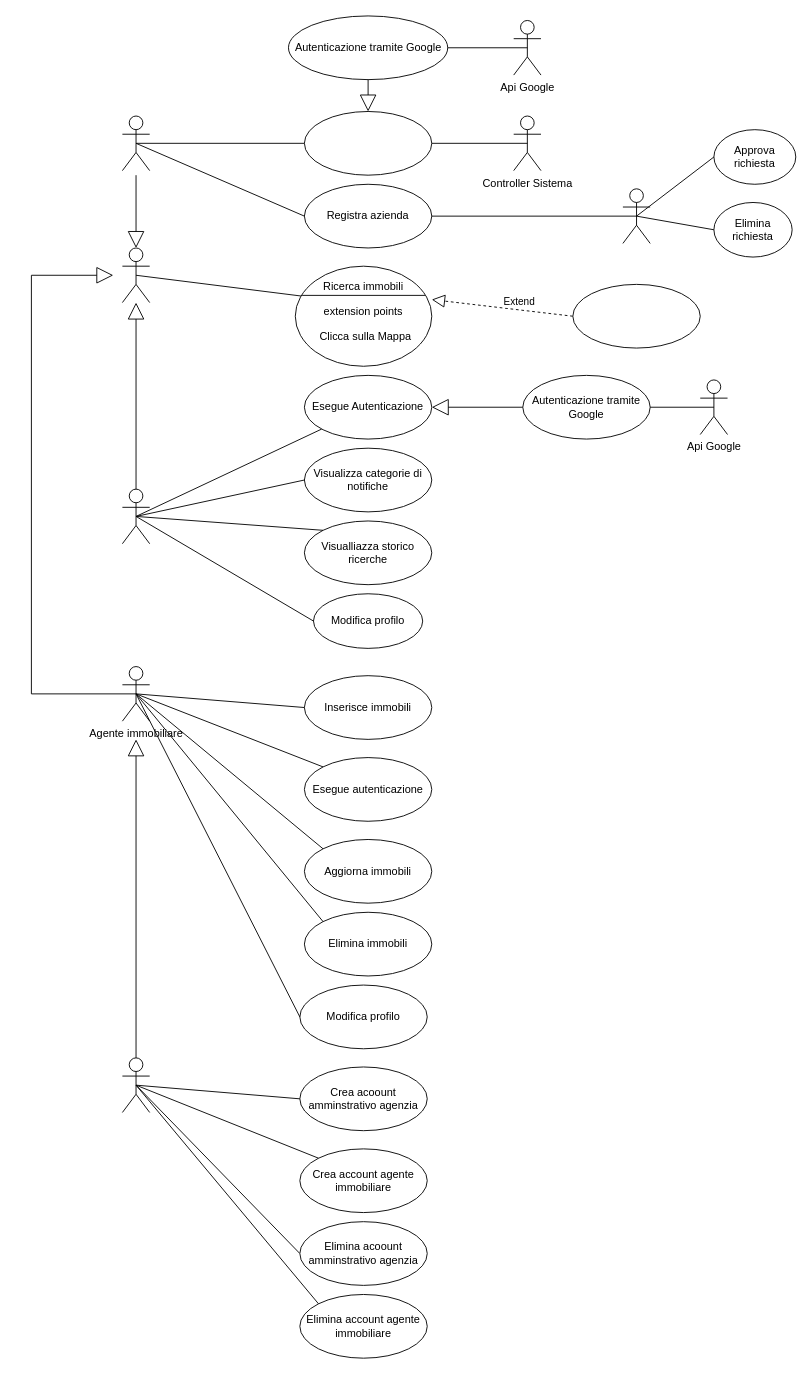
Some shapes in this 812 by 1374 pixel diagram are drawn without their labels. The shapes that lost their labels are listed below. From the top down, each one's centre as x and y in pixels, then its label:
the point at 135,143: Utente non registrato
the point at 367,143: Esegue registrazione
the point at 636,215: Amministratore DietiEstate
the point at 135,275: Utente generico
the point at 636,315: Ricerca tramite mappa
the point at 135,516: Utente registrato
the point at 135,1084: Amministratore agenzia
